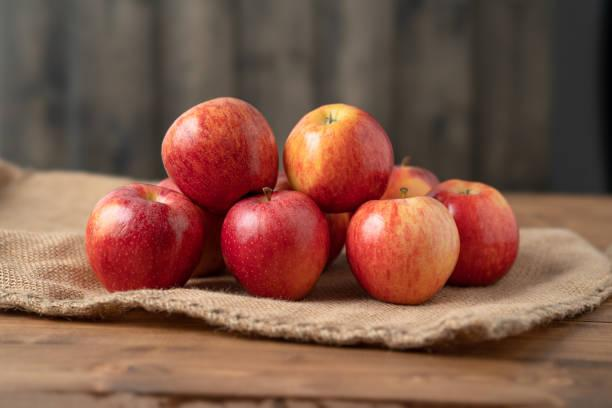apple: (155, 85, 282, 216), (87, 176, 205, 302), (285, 90, 395, 219), (350, 194, 459, 311), (219, 190, 335, 299), (462, 174, 525, 293), (393, 163, 440, 199)
